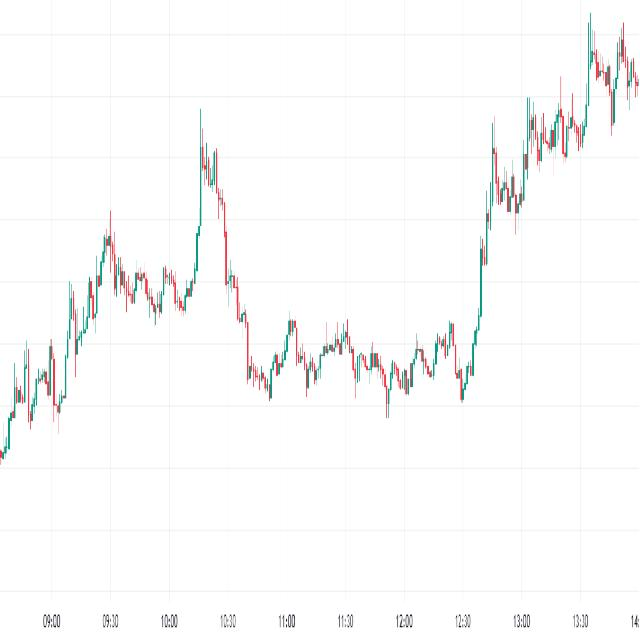rectangle: (238, 307, 484, 416)
